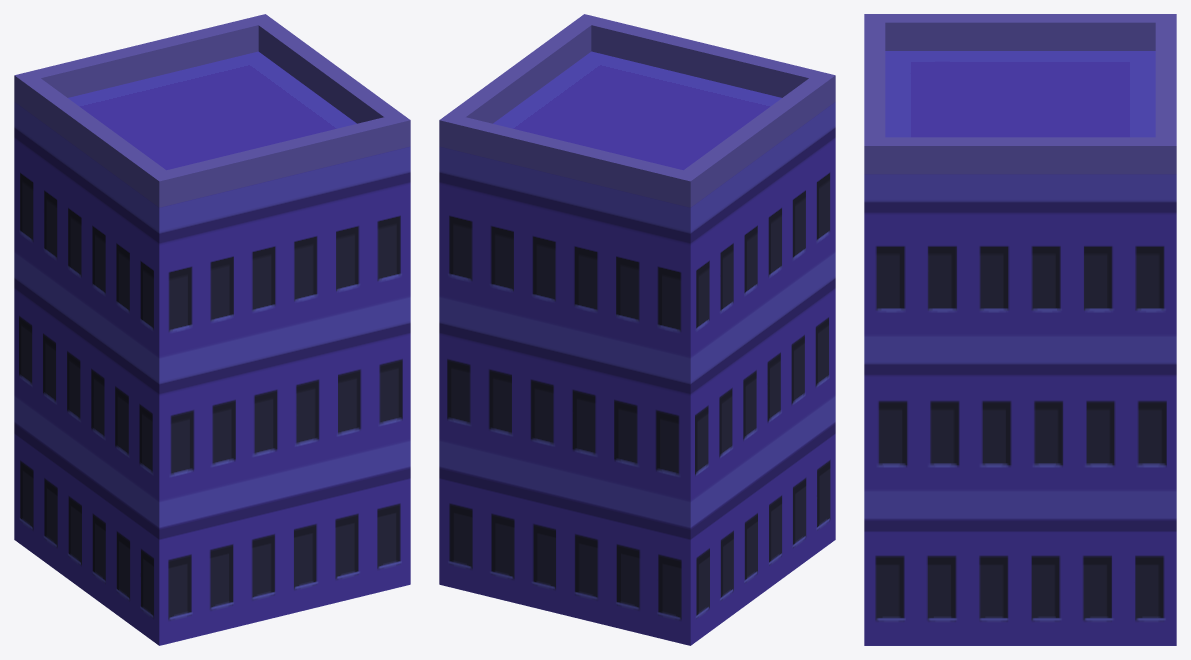
Rendered from roof.fbx.
The picture shows the model from 3 angles, left to right: view 1: azimuth 30°, elevation 25°; view 2: azimuth 150°, elevation 25°; view 3: azimuth 270°, elevation 25°; orthographic projection. The views are drawn at different scales.
Parts seen in each view (by area): view 1: bulding, roof, border; view 2: bulding, roof, border; view 3: bulding, roof, border.
Part boxes in pixels (left/top/right/bottom): bulding: left=14, top=102, right=410, bottom=645; roof: left=14, top=14, right=410, bottom=207; border: left=192, top=154, right=242, bottom=197; bulding: left=439, top=102, right=835, bottom=645; roof: left=439, top=14, right=835, bottom=207; border: left=742, top=55, right=793, bottom=97; bulding: left=864, top=174, right=1176, bottom=645; roof: left=864, top=14, right=1176, bottom=174; border: left=864, top=36, right=885, bottom=57.
Size of the model in its own units: 600 by 1060 by 600.
